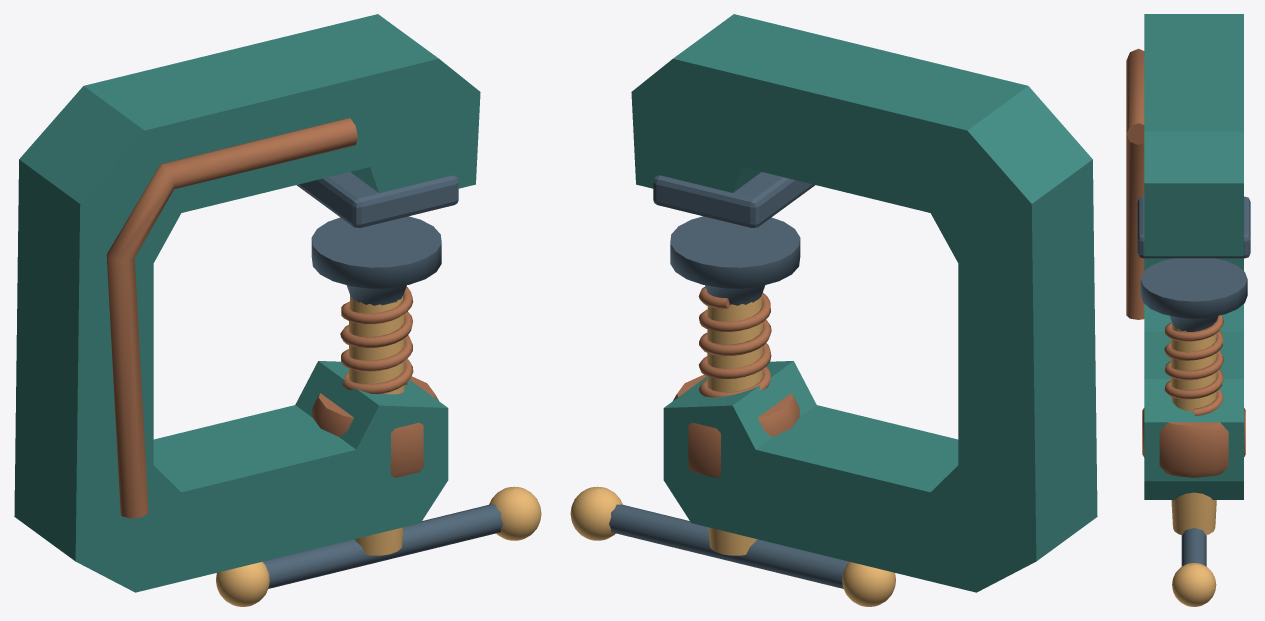
The picture shows the model from 3 angles, left to right: view 1: azimuth 30°, elevation 25°; view 2: azimuth 150°, elevation 25°; view 3: azimuth 270°, elevation 25°; orthographic projection. The views are drawn at different scales.
Visible parts, largest first — view 1: PR132 enamel and hardware; view 2: PR132 enamel and hardware; view 3: PR132 enamel and hardware.
Part boxes in pixels (x1,y1,x2,y2): PR132 enamel and hardware: (14,14,541,606); PR132 enamel and hardware: (570,14,1097,606); PR132 enamel and hardware: (1126,14,1250,606).
Size of the model in its own units: 0.2638 by 0.27 by 0.0705.
